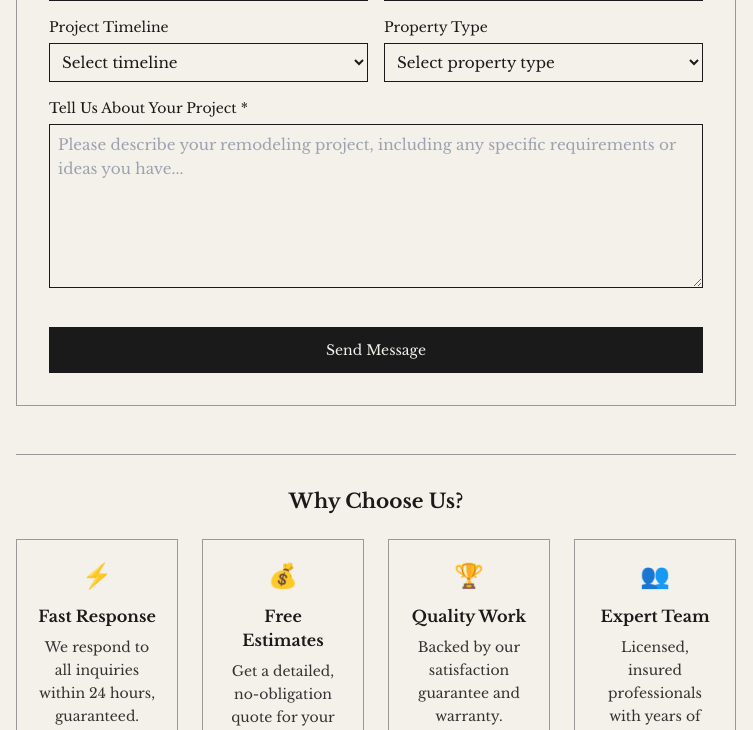
Contact › shows validation errors when submitting empty form
(page scrolled)
Click the button "Send Message".
click(376, 350)  # box [49,327,703,373]
(page scrolled)
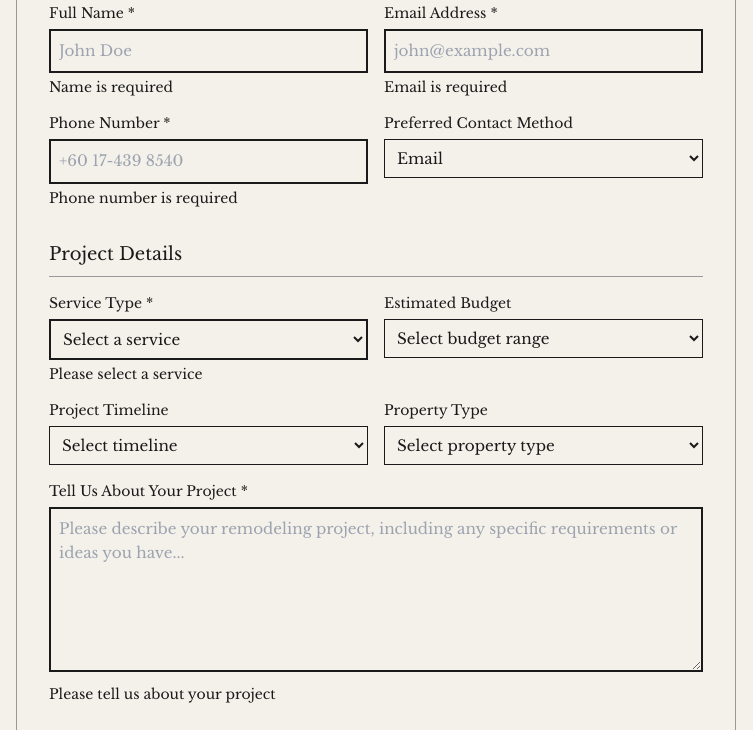
Now the text "Name is required" is shown, box [49,78,173,96]
Now the text "Email is required" is shown, box [384,78,507,96]
Now the text "Phone number is required" is shown, box [49,188,238,206]
